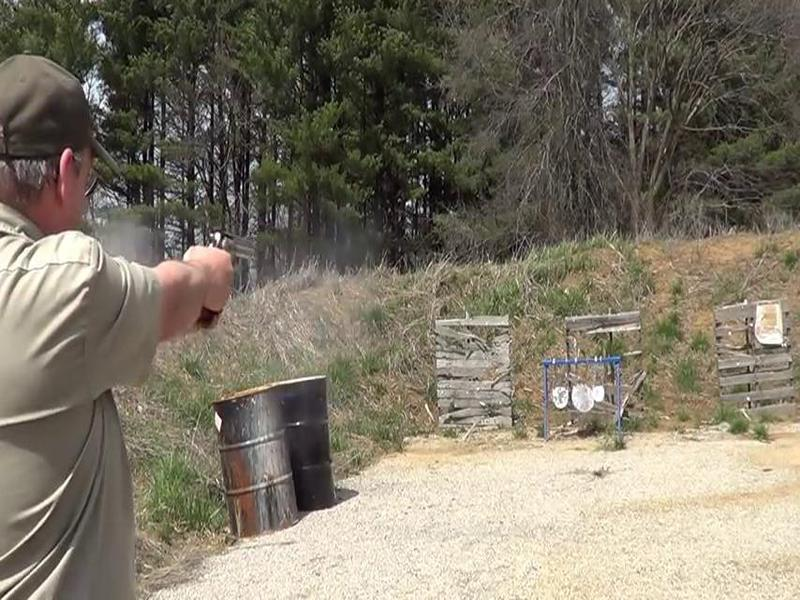Revolver: (197, 215, 260, 283)
